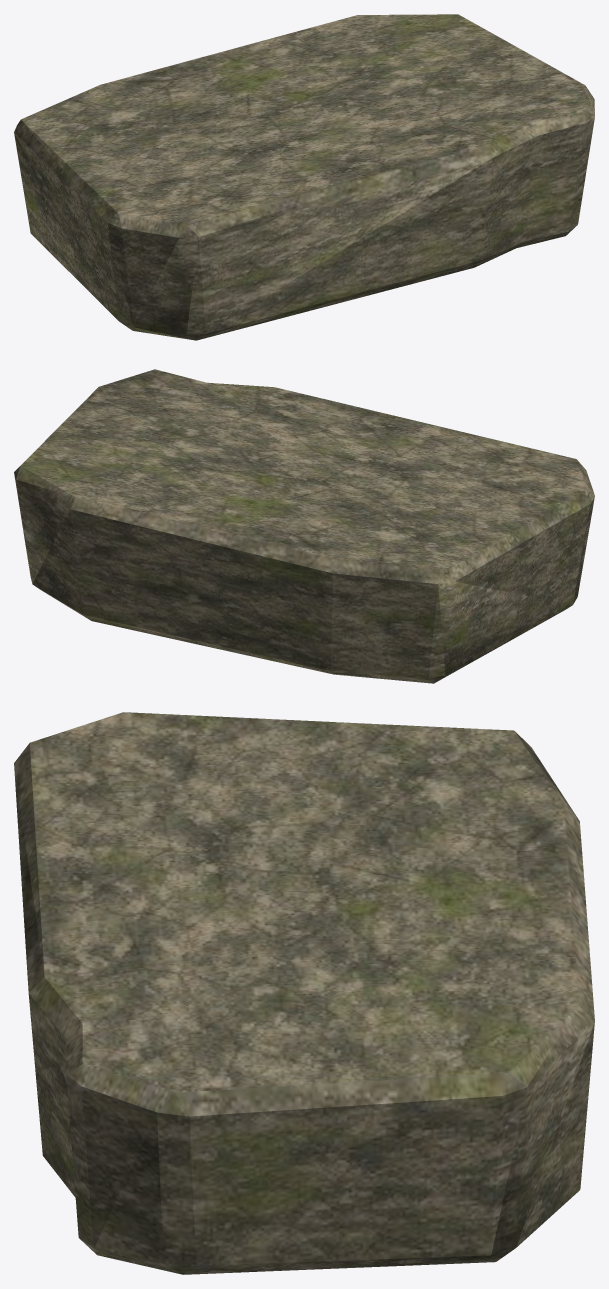
The model's file is Washing_Stone.glb.
The picture shows the model from 3 angles, top to bottom: view 1: azimuth 30°, elevation 25°; view 2: azimuth 150°, elevation 25°; view 3: azimuth 270°, elevation 25°; orthographic projection. The views are drawn at different scales.
Visible parts, largest first — view 1: Washing_Stone; view 2: Washing_Stone; view 3: Washing_Stone.
Part boxes in pixels (x1=…): Washing_Stone: x1=14, y1=14, x2=594, y2=340; Washing_Stone: x1=14, y1=369, x2=594, y2=683; Washing_Stone: x1=14, y1=712, x2=594, y2=1274.
Size of the model in its own units: 1.22 by 0.3005 by 0.7657.
Materials: 1 (1 with a texture image).
